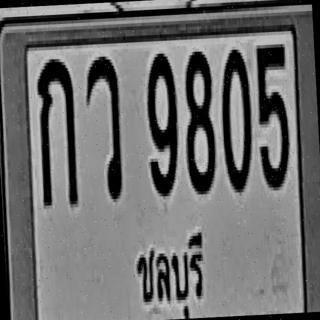A01: (36, 55, 79, 209)
A37: (84, 54, 124, 202)
N00: (218, 46, 255, 193)
N05: (254, 41, 292, 191)
N08: (182, 48, 218, 195)
N09: (144, 50, 181, 197)
P13: (128, 215, 210, 320)
